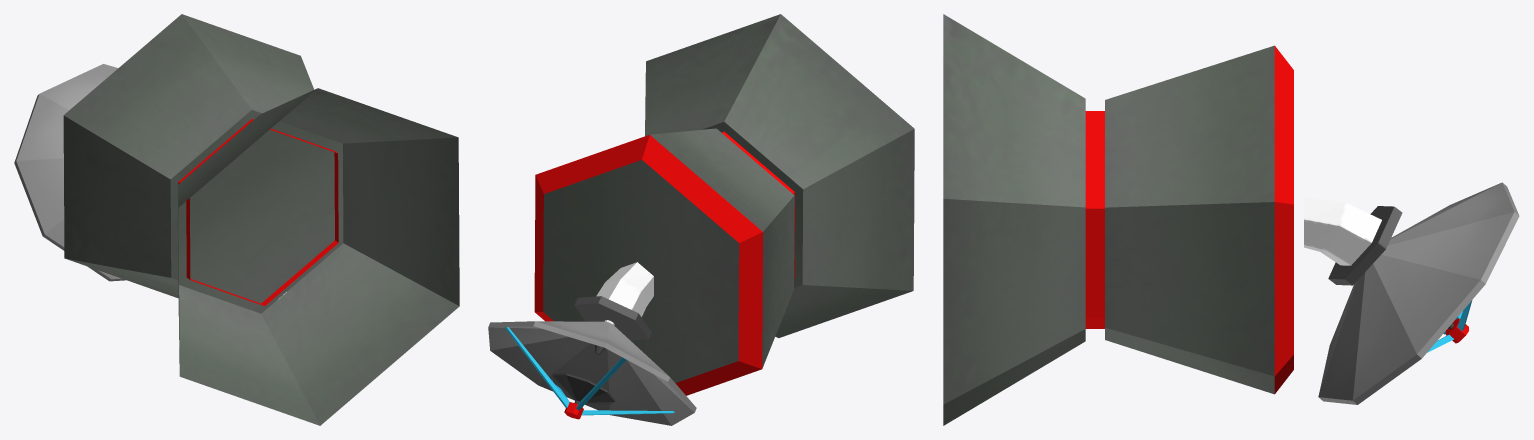
Rendered from TorreRadar1MAISCAFE 1.fbx.
3 renders of one model, left to right at view 1: azimuth 30°, elevation 25°; view 2: azimuth 150°, elevation 25°; view 3: azimuth 270°, elevation 25°, orthographic. The views are drawn at different scales.
Visible parts, largest first — view 1: Torre; view 2: Torre; view 3: Torre.
Boxes of the visible parts, x1,y1,x2,y2 form: Torre: (14,14,459,425); Torre: (488,14,914,425); Torre: (943,14,1519,425).
Size of the model in its own units: 125 by 144 by 184.
